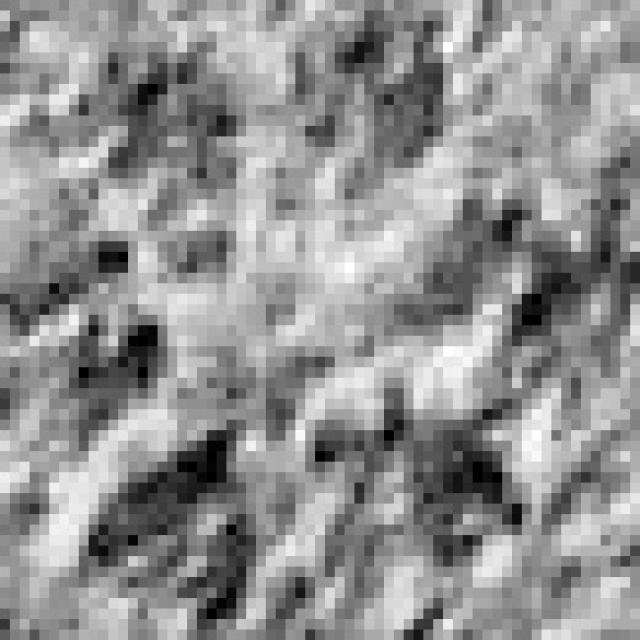inner: (164, 203, 390, 426)
lobe: (51, 44, 248, 293), (316, 380, 533, 591), (83, 419, 263, 620), (384, 196, 601, 361), (5, 231, 166, 447), (275, 15, 448, 214)
outer: (0, 0, 640, 640)
